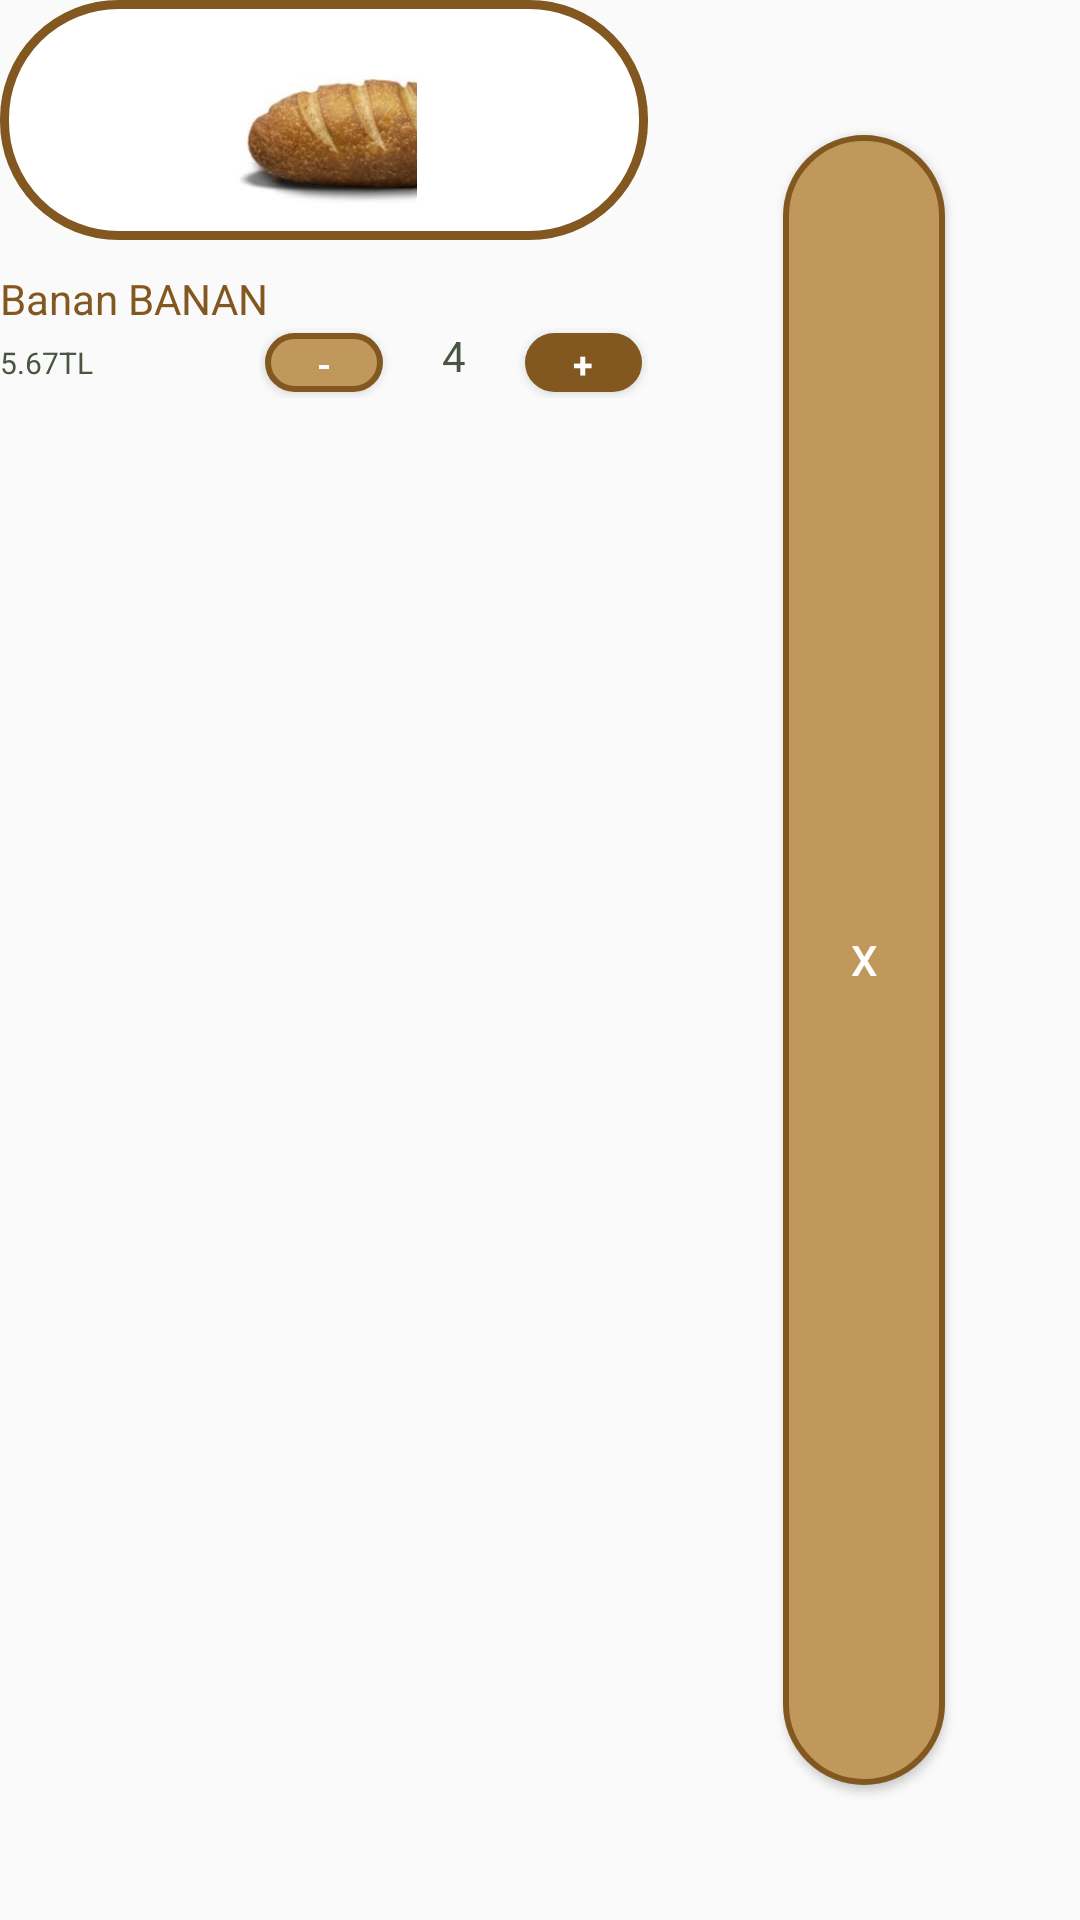

Icons on this 1080w x 1920h Android screen, each with the point to tap as point (x, y):
baked goods: point (329, 139)
